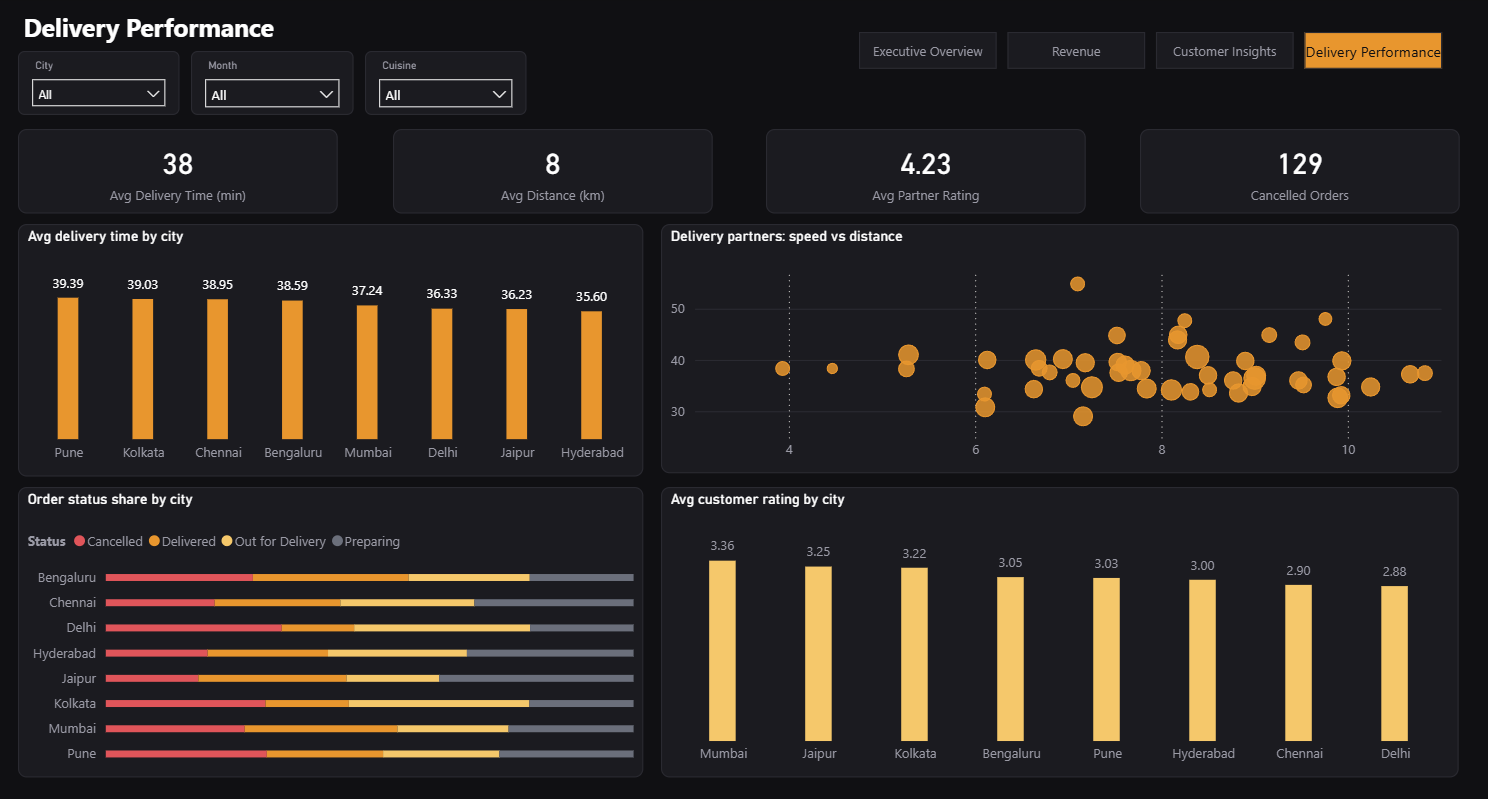

The page's visual inventory and layout, read from the dashboard file:
{"tool":"powerbi","page":{"name":"Delivery Performance","canvas":[1380,740],"ordinal":3},"visuals":[{"type":"textbox","box":[20.2,8.1,640,48.4],"z":0},{"type":"columnChart","title":"Avg delivery time by city","fields":{"Category":["FOOD DELIVERY ORDERS.City"],"Y":["Avg(FOOD DELIVERY ORDERS.Delivery_Time)"]},"box":[20.6,209.7,577,232.5],"z":1000},{"type":"scatterChart","title":"Delivery partners: speed vs distance","fields":{"Category":["FOOD DELIVERY ORDERS.Delivery_Partner"],"X":["Avg(FOOD DELIVERY ORDERS.Distance_KM)"],"Y":["Avg(FOOD DELIVERY ORDERS.Delivery_Time)"],"Size":["FOOD DELIVERY ORDERS.Total Orders"]},"box":[613.9,209.7,735.6,230.4],"z":2000},{"type":"hundredPercentStackedBarChart","title":"Order status share by city","fields":{"Category":["FOOD DELIVERY ORDERS.City"],"Series":["FOOD DELIVERY ORDERS.Order_Status"],"Y":["FOOD DELIVERY ORDERS.Total Orders"]},"box":[20.6,452,577,268.4],"z":3000},{"type":"columnChart","title":"Avg customer rating by city","fields":{"Category":["FOOD DELIVERY ORDERS.City"],"Y":["Avg(FOOD DELIVERY ORDERS.Customer_Rating)"]},"box":[613.9,452,735.6,268.4],"z":4000},{"type":"pageNavigator","box":[796.5,32.6,541.1,34.8],"z":6000},{"type":"slicer","fields":{"Values":["FOOD DELIVERY ORDERS.City"]},"box":[20.6,50,149,59],"z":7000},{"type":"slicer","fields":{"Values":["FOOD DELIVERY ORDERS.Order_Date.Month"]},"box":[180.4,50,150,58.7],"z":8000},{"type":"slicer","fields":{"Values":["FOOD DELIVERY ORDERS.Category"]},"box":[340.1,50,149,59],"z":9000},{"type":"card","fields":{"Values":["Avg(FOOD DELIVERY ORDERS.Delivery_Time)"]},"box":[20.6,121.7,295,78],"z":10000},{"type":"card","fields":{"Values":["Avg(FOOD DELIVERY ORDERS.Distance_KM)"]},"box":[366.2,121.7,295,78],"z":11000},{"type":"card","fields":{"Values":["Avg(FOOD DELIVERY ORDERS.Delivery_Partner_Rating)"]},"box":[710.6,121.7,295,78],"z":12000},{"type":"card","fields":{"Values":["FOOD DELIVERY ORDERS.Orders Cancelled"]},"box":[1055.1,121.7,295,78],"z":13000}]}

Visuals, with their boxes in screenshot pixels (x1, y1, x2, y2), scaled from the page's 1380x740 canvas onto the 1488x799 screenshot:
textbox: BBox(22, 9, 712, 61)
"Avg delivery time by city" columnChart: BBox(22, 226, 644, 477)
"Delivery partners: speed vs distance" scatterChart: BBox(662, 226, 1455, 475)
"Order status share by city" hundredPercentStackedBarChart: BBox(22, 488, 644, 778)
"Avg customer rating by city" columnChart: BBox(662, 488, 1455, 778)
pageNavigator: BBox(859, 35, 1442, 73)
slicer - FOOD DELIVERY ORDERS.City: BBox(22, 54, 183, 118)
slicer - FOOD DELIVERY ORDERS.Order_Date.Month: BBox(195, 54, 356, 117)
slicer - FOOD DELIVERY ORDERS.Category: BBox(367, 54, 527, 118)
card - Avg(FOOD DELIVERY ORDERS.Delivery_Time): BBox(22, 131, 340, 216)
card - Avg(FOOD DELIVERY ORDERS.Distance_KM): BBox(395, 131, 713, 216)
card - Avg(FOOD DELIVERY ORDERS.Delivery_Partner_Rating): BBox(766, 131, 1084, 216)
card - FOOD DELIVERY ORDERS.Orders Cancelled: BBox(1138, 131, 1456, 216)
